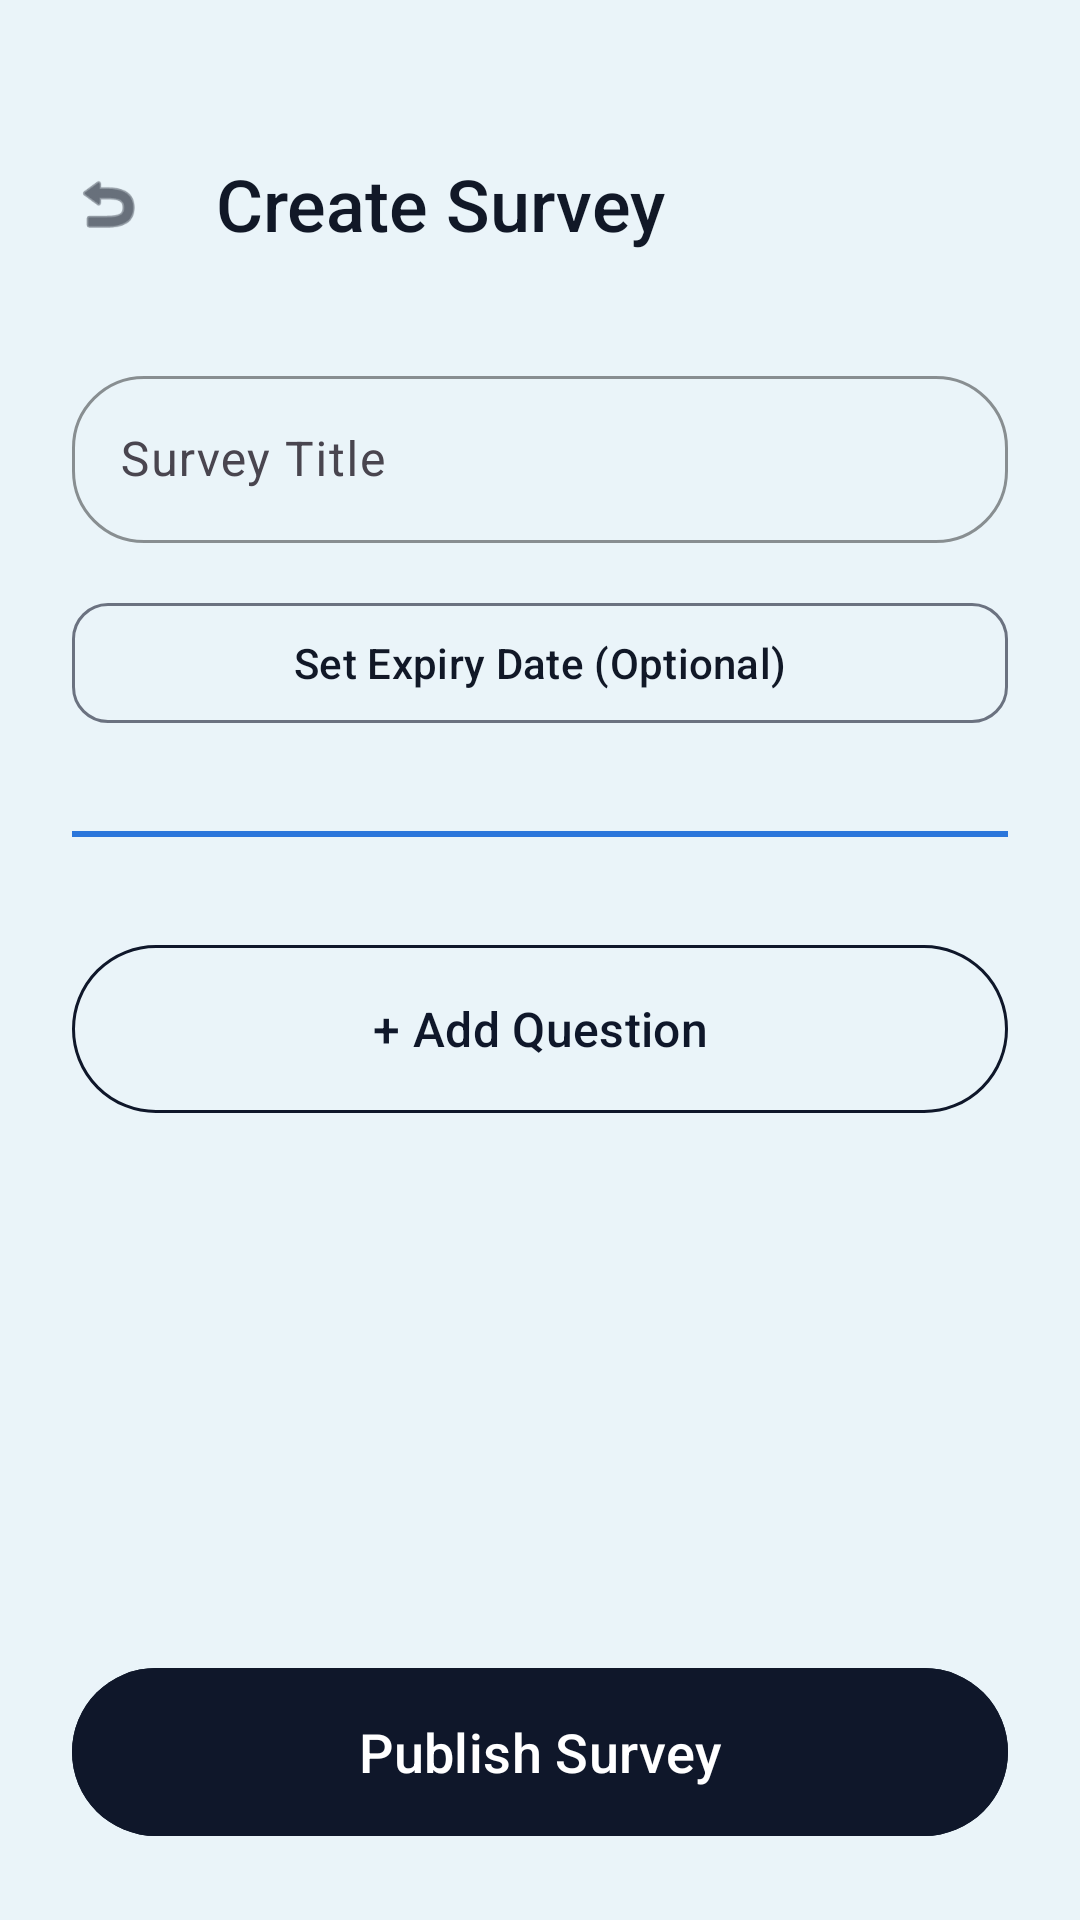

Screen size 1080x1920. Icon name, then its box in pixels as (x1, y1, x2, y2):
revert: (83, 181, 135, 228)
